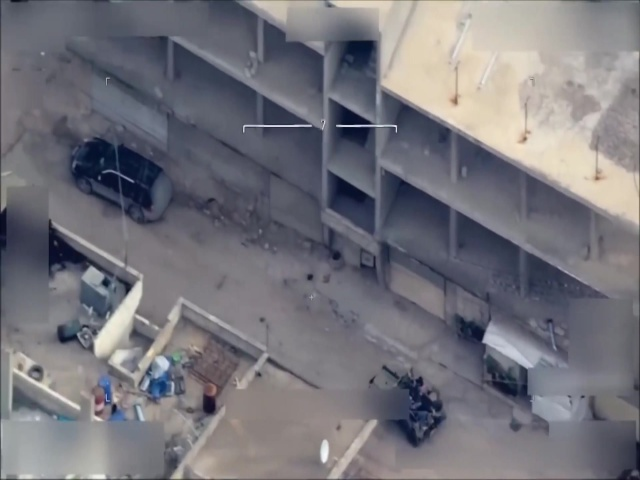vehicle: (70, 134, 174, 224), (367, 360, 450, 445)
